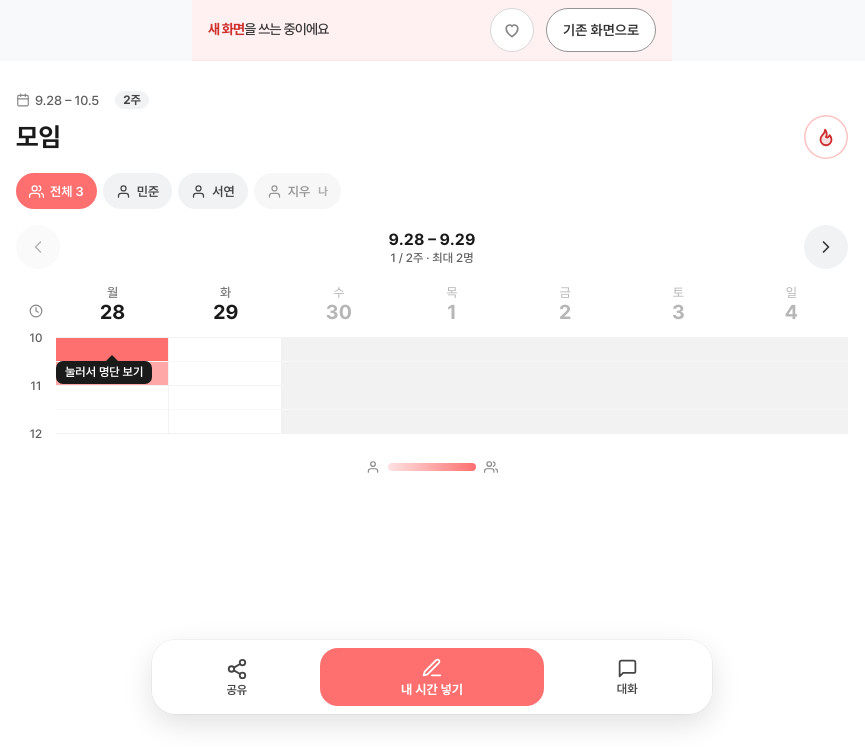
Test: 내 시간 저장 › 다른 사람이 있을 때 첫 저장: schedule_save(B)·폭죽·튀어 오르는 안내
The image size is (865, 747).
Expected: the heading "모임" is shown, x1=16 y1=122 x2=61 y2=152
Click the button "내 시간 넣기": (432, 677) x1=320 y1=648 x2=544 y2=706
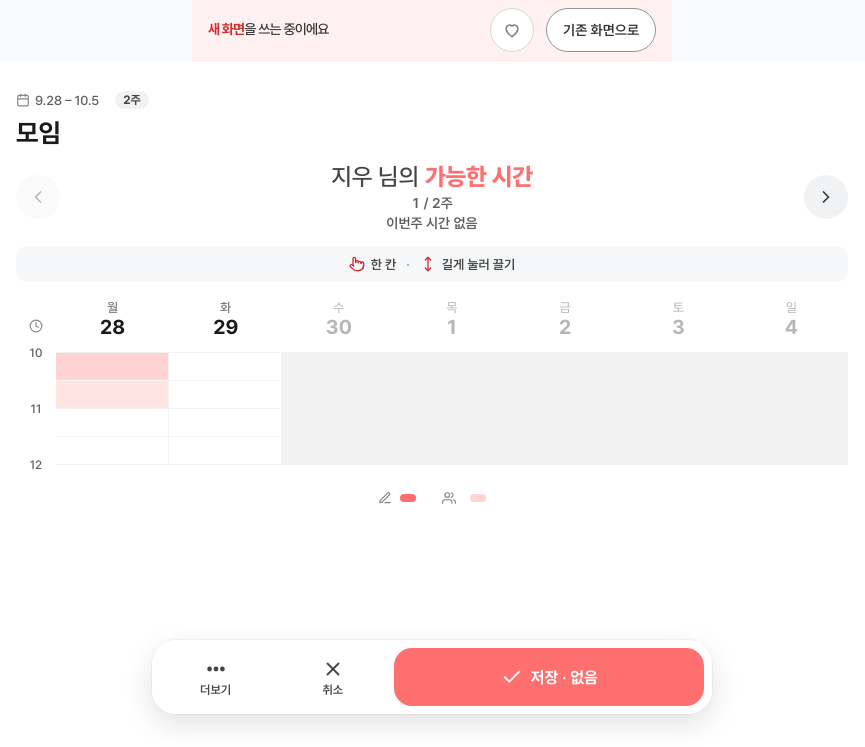
Click the button named "9월 28일 (월) 하루 전체 칠하기·지우기": (113, 321) x1=56 y1=296 x2=169 y2=346
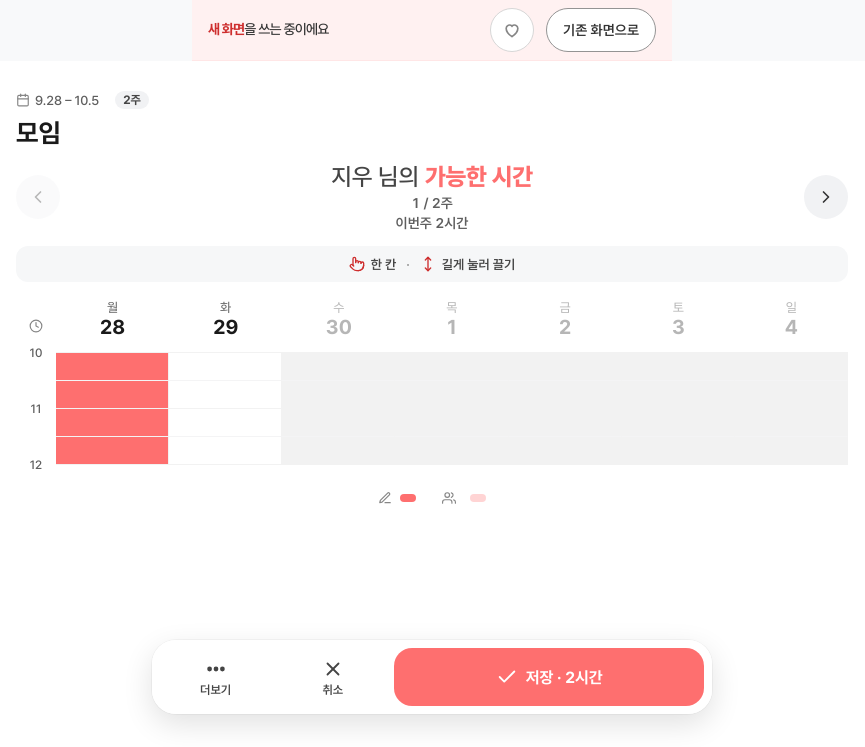
Result: the button with aria-label "저장하기, 2시간" is shown
Click the button with aria-label "저장하기, 2시간": (549, 677) x1=394 y1=648 x2=704 y2=706
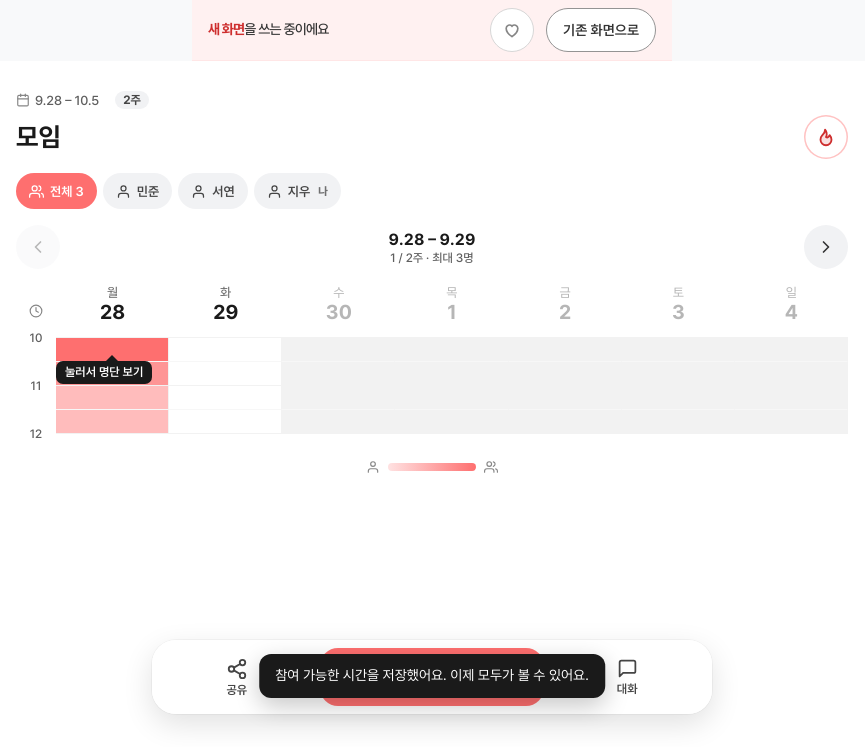
Result: the button with aria-label "내 시간 고치기, 지금 2시간" is shown at x1=320 y1=648 x2=544 y2=706
